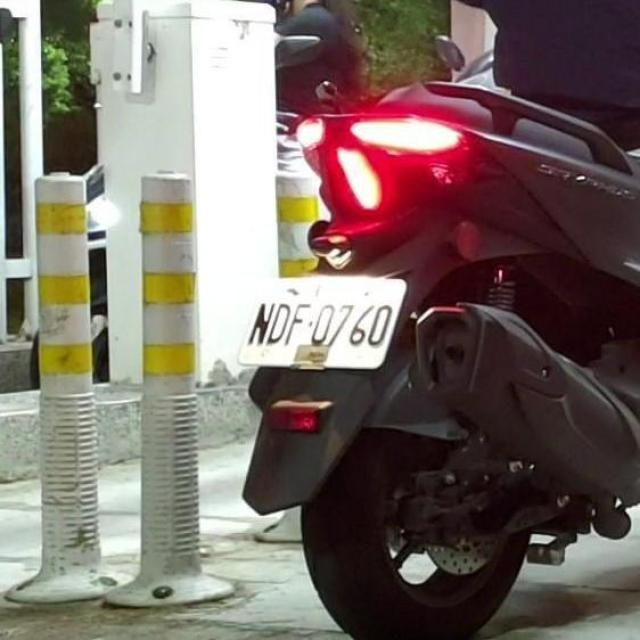W: (234, 266, 411, 380)
